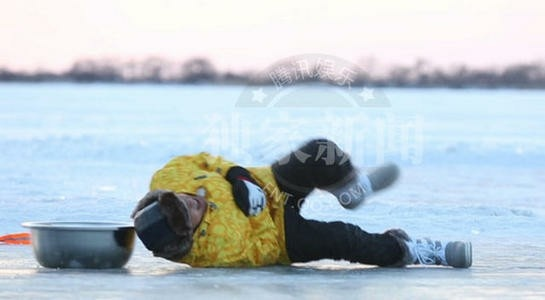falling: (126, 123, 483, 279)
